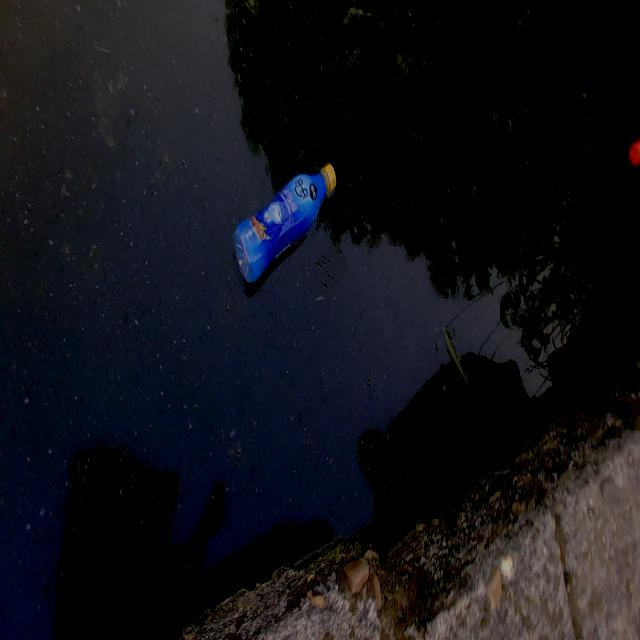bottle: (218, 138, 348, 306)
